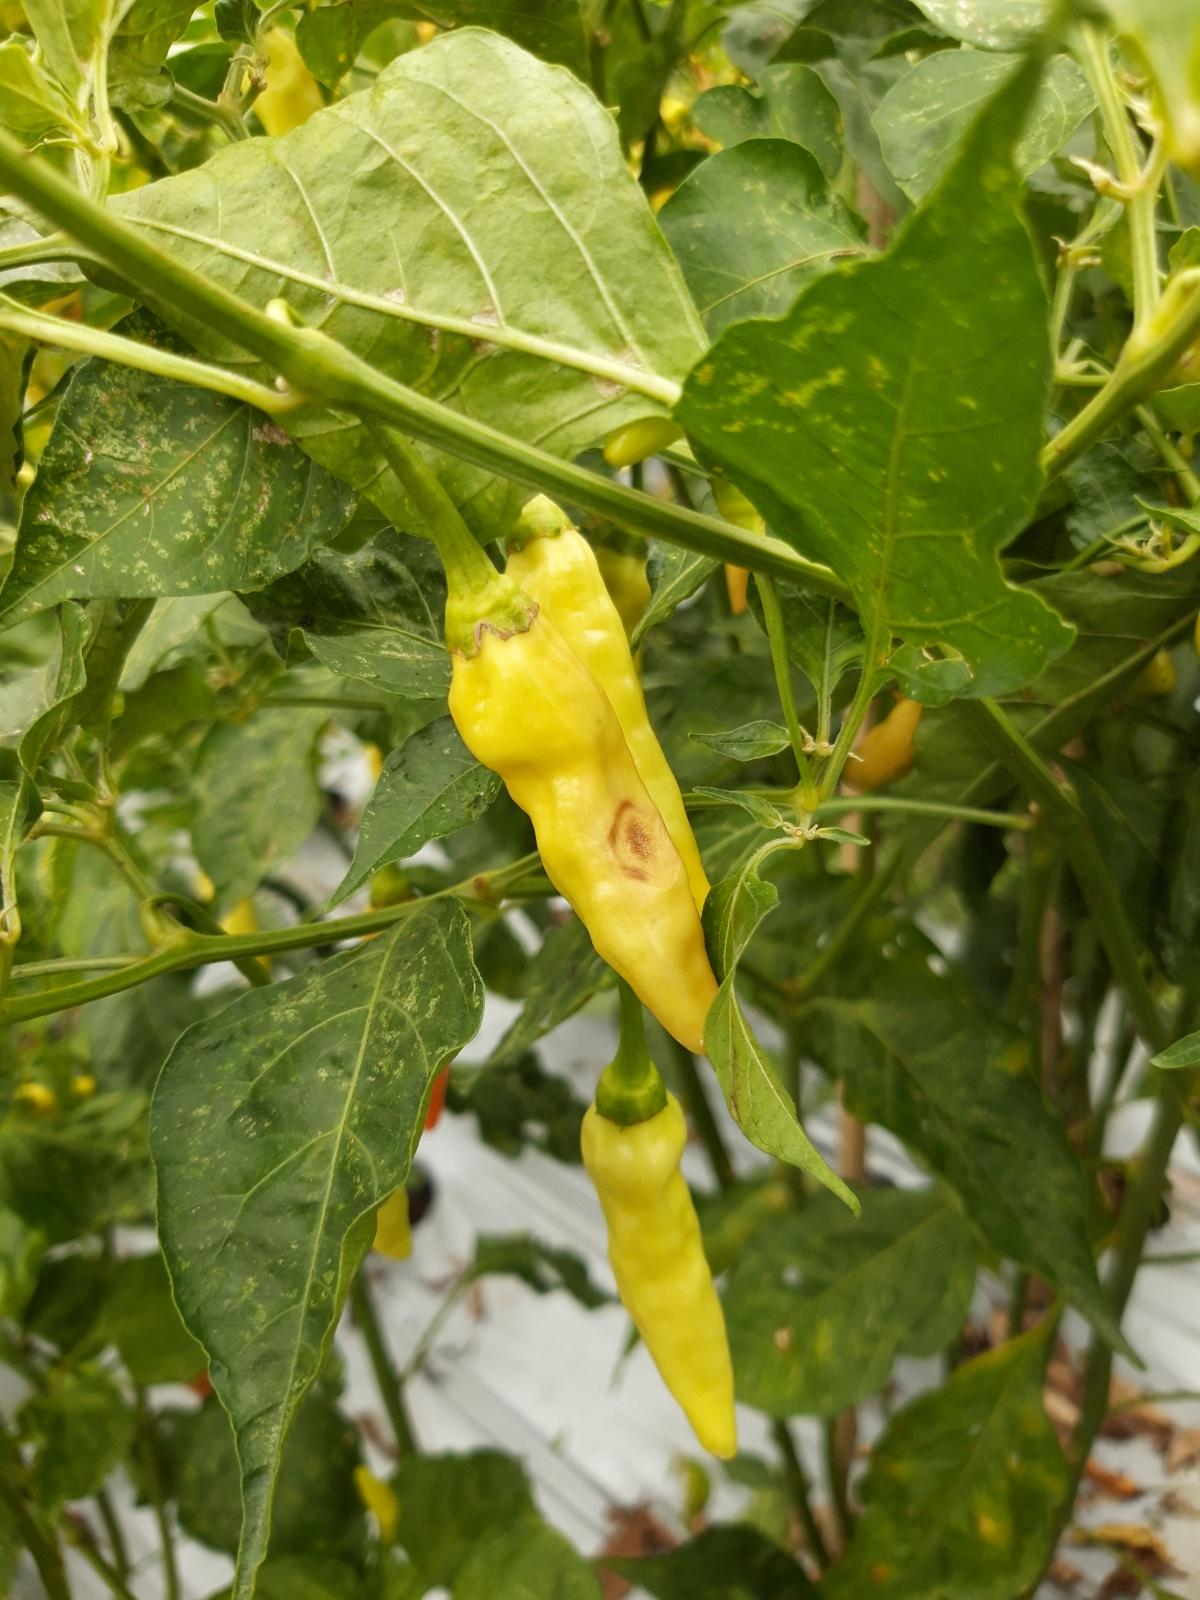cabai_normal: (503, 496, 707, 917), (580, 1062, 741, 1460)
lalat_buah: (444, 573, 716, 1054)
